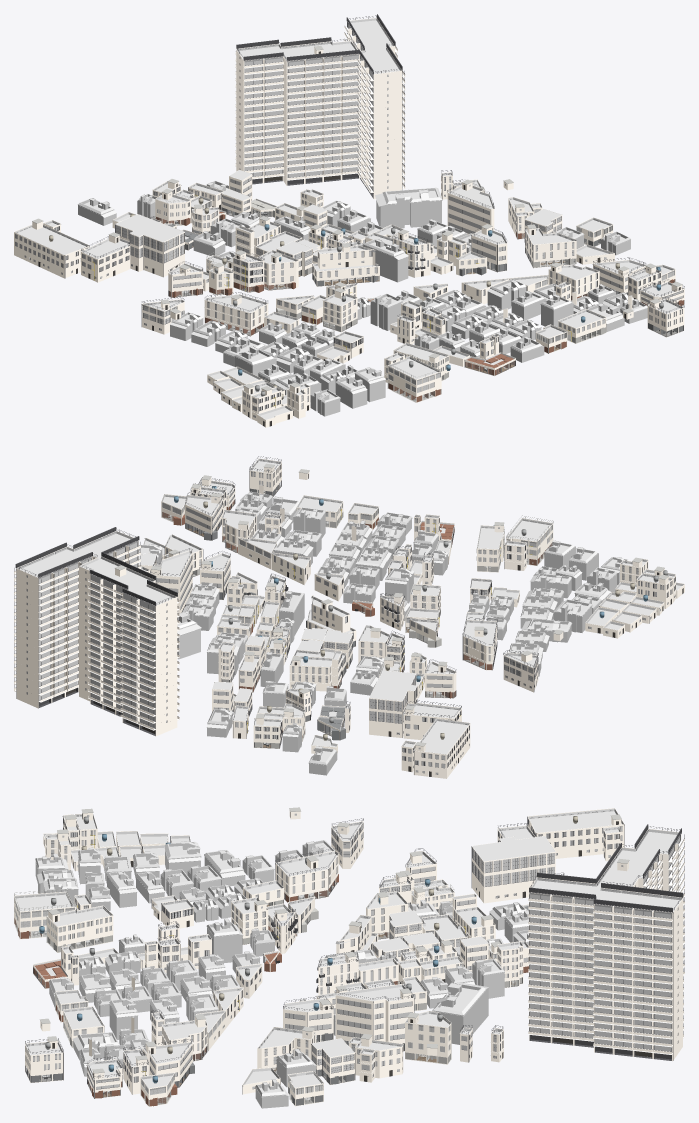
3 renders of one model, top to bottom at view 1: azimuth 30°, elevation 25°; view 2: azimuth 150°, elevation 25°; view 3: azimuth 270°, elevation 25°, orthographic. The views are drawn at different scales.
Visible parts, largest first — view 1: 서울특별시 성동구 성수동2가 833.004, 서울특별시 성동구 성수동2가 331-33, 서울특별시 성동구 성수동2가 330-1.006, 서울특별시 성동구 성수동2가 833.005, 서울특별시 성동구 성수동2가 331-61, 서울특별시 성동구 성수동2가 331-77, 서울특별시 성동구 성수동2가 331-163.001, 서울특별시 성동구 성수동2가 264-1, 서울특별시 성동구 성수동2가 331-33.002, 서울특별시 성동구 성수동2가 264-3, 서울특별시 성동구 성수동2가 328-55, 서울특별시 성동구 성수동2가 331-70 (+36 smaller); view 2: 서울특별시 성동구 성수동2가 833.004, 서울특별시 성동구 성수동2가 331-33, 서울특별시 성동구 성수동2가 330-1.006, 서울특별시 성동구 성수동2가 331-77, 서울특별시 성동구 성수동2가 264-1, 서울특별시 성동구 성수동2가 264-5.001, 서울특별시 성동구 성수동2가 331-163.001, 서울특별시 성동구 성수동2가 331-33.002, 서울특별시 성동구 성수동2가 331-161, 서울특별시 성동구 성수동2가 331-56, 서울특별시 성동구 성수동2가 331-61, 서울특별시 성동구 성수동2가 331-85 (+48 smaller); view 3: 서울특별시 성동구 성수동2가 833.004, 서울특별시 성동구 성수동2가 331-33, 서울특별시 성동구 성수동2가 264-1, 서울특별시 성동구 성수동2가 330-1.006, 서울특별시 성동구 성수동2가 331-77, 서울특별시 성동구 성수동2가 331-161, 서울특별시 성동구 성수동2가 833.005, 서울특별시 성동구 성수동2가 269-33, 서울특별시 성동구 성수동2가 331-163.001, 서울특별시 성동구 성수동2가 269-118, 서울특별시 성동구 성수동2가 263-5, 서울특별시 성동구 성수동2가 264-5.001 (+81 smaller).
Part boxes in pixels (x1,y1,x2,y2): 서울특별시 성동구 성수동2가 833.004: (235, 14, 405, 199); 서울특별시 성동구 성수동2가 331-33: (115, 214, 184, 277); 서울특별시 성동구 성수동2가 330-1.006: (14, 224, 89, 278); 서울특별시 성동구 성수동2가 833.005: (375, 187, 442, 228); 서울특별시 성동구 성수동2가 331-61: (312, 245, 379, 286); 서울특별시 성동구 성수동2가 331-77: (204, 292, 268, 336); 서울특별시 성동구 성수동2가 331-163.001: (387, 354, 441, 402); 서울특별시 성동구 성수동2가 264-1: (447, 183, 494, 234); 서울특별시 성동구 성수동2가 331-33.002: (81, 236, 130, 282); 서울특별시 성동구 성수동2가 264-3: (524, 228, 576, 268); 서울특별시 성동구 성수동2가 328-55: (363, 239, 408, 282); 서울특별시 성동구 성수동2가 331-70: (257, 250, 298, 290); 서울특별시 성동구 성수동2가 833.004: (14, 527, 179, 736); 서울특별시 성동구 성수동2가 331-33: (369, 670, 417, 737); 서울특별시 성동구 성수동2가 330-1.006: (413, 718, 470, 778); 서울특별시 성동구 성수동2가 331-77: (462, 617, 497, 670); 서울특별시 성동구 성수동2가 264-1: (150, 548, 192, 613); 서울특별시 성동구 성수동2가 264-5.001: (185, 492, 223, 540); 서울특별시 성동구 성수동2가 331-163.001: (506, 515, 553, 565); 서울특별시 성동구 성수동2가 331-33.002: (403, 700, 461, 739); 서울특별시 성동구 성수동2가 331-161: (476, 525, 504, 572); 서울특별시 성동구 성수동2가 331-56: (289, 655, 331, 691); 서울특별시 성동구 성수동2가 331-61: (306, 595, 356, 647); 서울특별시 성동구 성수동2가 331-85: (503, 650, 538, 692); 서울특별시 성동구 성수동2가 833.004: (528, 824, 684, 1061); 서울특별시 성동구 성수동2가 331-33: (471, 836, 555, 903); 서울특별시 성동구 성수동2가 264-1: (335, 981, 414, 1051); 서울특별시 성동구 성수동2가 330-1.006: (527, 808, 624, 858); 서울특별시 성동구 성수동2가 331-77: (275, 848, 338, 902); 서울특별시 성동구 성수동2가 331-161: (46, 905, 113, 952); 서울특별시 성동구 성수동2가 833.005: (432, 982, 488, 1044); 서울특별시 성동구 성수동2가 269-33: (404, 1011, 451, 1064); 서울특별시 성동구 성수동2가 331-163.001: (14, 889, 75, 939); 서울특별시 성동구 성수동2가 269-118: (311, 1038, 355, 1085); 서울특별시 성동구 성수동2가 263-5: (283, 995, 333, 1042); 서울특별시 성동구 성수동2가 264-5.001: (142, 1039, 194, 1087).
Size of the model in its own units: 209 by 54.97 by 217.
